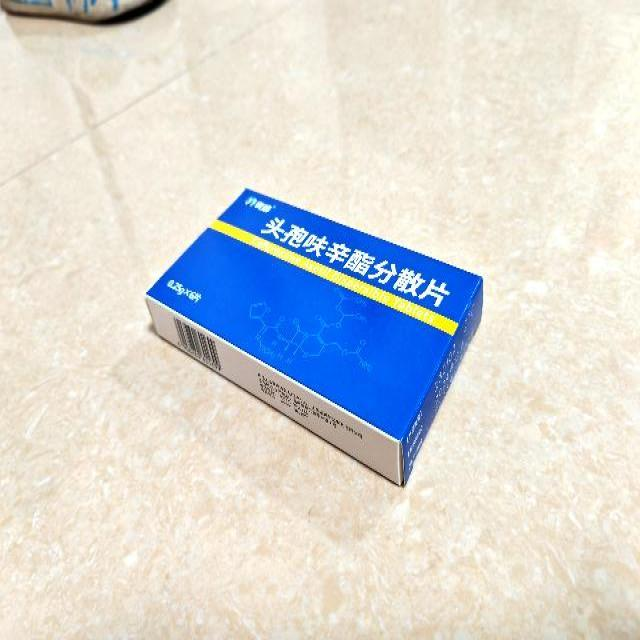box: (146, 189, 484, 491)
